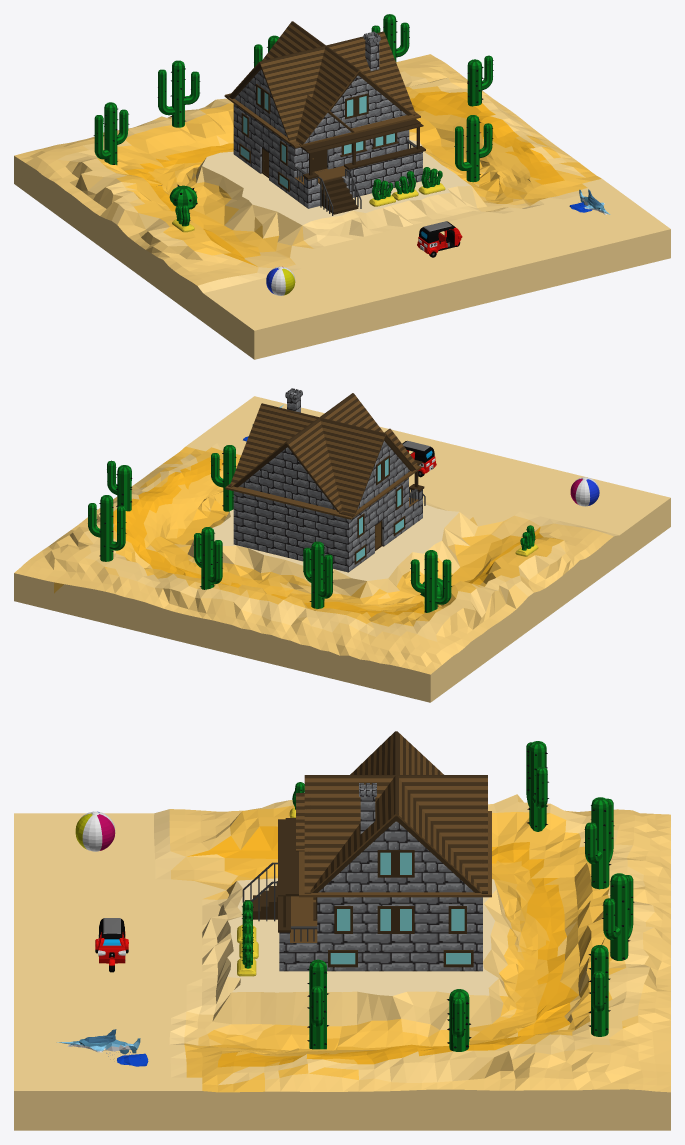
3 renders of one model, top to bottom at view 1: azimuth 30°, elevation 25°; view 2: azimuth 150°, elevation 25°; view 3: azimuth 270°, elevation 25°, orthographic. The views are drawn at different scales.
Visible parts, largest first — view 1: Cube.001, Cube.586, Cylinder.037, Cylinder.044, Cylinder.045, VEHICLES_TUC_TUC, Cylinder.038, Cylinder.042, OBJRANDOM_BEACHBALL, Cylinder.039, Cylinder.041, Sphere.023 (+1 smaller); view 2: Cube.001, Cube.586, Cylinder.042, Cylinder.045, Cylinder.044, Cylinder.043, Cylinder.037, Cylinder.038, OBJRANDOM_BEACHBALL, VEHICLES_TUC_TUC; view 3: Cube.001, Cube.586, Cylinder.043, Cylinder.044, Cylinder.045, Cylinder.042, Cylinder.037, VEHICLES_TUC_TUC, OBJRANDOM_BEACHBALL, Cylinder.038, ANIMAL_PEZ_ESPADA, Cylinder.041.
Part boxes in pixels (bbox=[...]): Cube.001: bbox=[14, 54, 670, 359]; Cube.586: bbox=[224, 21, 425, 215]; Cylinder.037: bbox=[454, 115, 493, 182]; Cylinder.044: bbox=[157, 60, 200, 127]; Cylinder.045: bbox=[93, 102, 129, 164]; VEHICLES_TUC_TUC: bbox=[417, 221, 462, 257]; Cylinder.038: bbox=[467, 55, 493, 106]; Cylinder.042: bbox=[371, 14, 409, 62]; OBJRANDOM_BEACHBALL: bbox=[266, 266, 295, 295]; Cylinder.039: bbox=[369, 179, 395, 206]; Cylinder.041: bbox=[418, 167, 445, 194]; Sphere.023: bbox=[169, 184, 197, 209]; Cube.001: bbox=[14, 396, 670, 702]; Cube.586: bbox=[225, 388, 425, 572]; Cylinder.042: bbox=[88, 495, 126, 561]; Cylinder.045: bbox=[410, 550, 452, 612]; Cylinder.044: bbox=[303, 541, 333, 608]; Cylinder.043: bbox=[193, 527, 222, 589]; Cylinder.037: bbox=[211, 445, 240, 511]; Cylinder.038: bbox=[107, 460, 132, 511]; OBJRANDOM_BEACHBALL: bbox=[570, 477, 599, 506]; VEHICLES_TUC_TUC: bbox=[402, 440, 436, 477]; Cube.001: bbox=[14, 794, 670, 1130]; Cube.586: bbox=[242, 731, 491, 971]; Cylinder.043: bbox=[602, 873, 634, 960]; Cylinder.044: bbox=[584, 797, 614, 889]; Cylinder.045: bbox=[526, 741, 548, 831]; Cylinder.042: bbox=[588, 945, 610, 1036]; Cylinder.037: bbox=[307, 959, 328, 1049]; VEHICLES_TUC_TUC: bbox=[95, 918, 128, 972]; OBJRANDOM_BEACHBALL: bbox=[75, 811, 115, 851]; Cylinder.038: bbox=[447, 989, 471, 1051]; ANIMAL_PEZ_ESPADA: bbox=[57, 1029, 148, 1066]; Cylinder.041: bbox=[237, 933, 256, 976].
Bounding box in the file's own units: 4002 × 1636 × 4001.
Materials: 33 (3 with a texture image).
